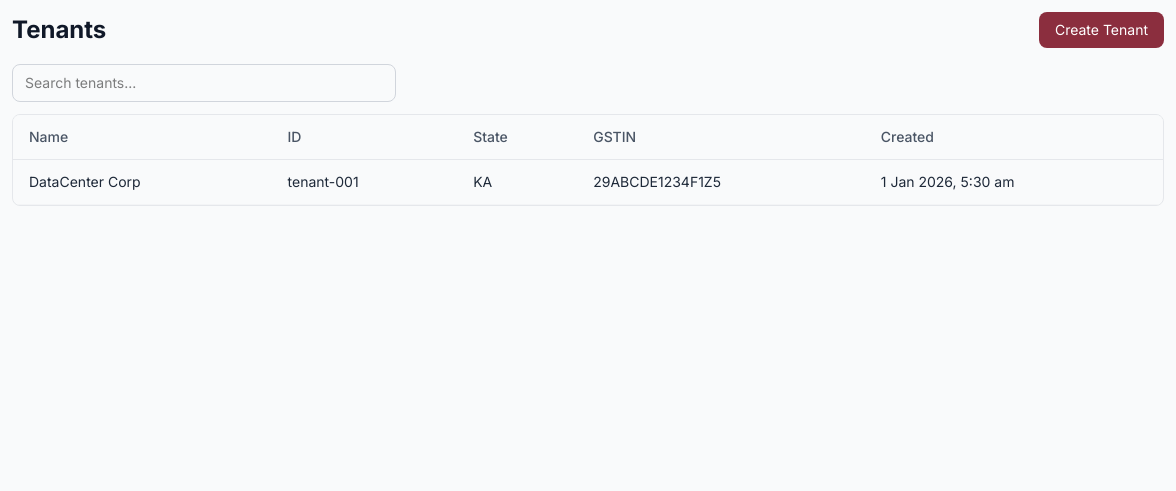
Scenario: PlatformTenants page › shows edit form when a tenant row is clicked
Click the text "DataCenter Corp" at (142, 182), box [13,160,272,204]
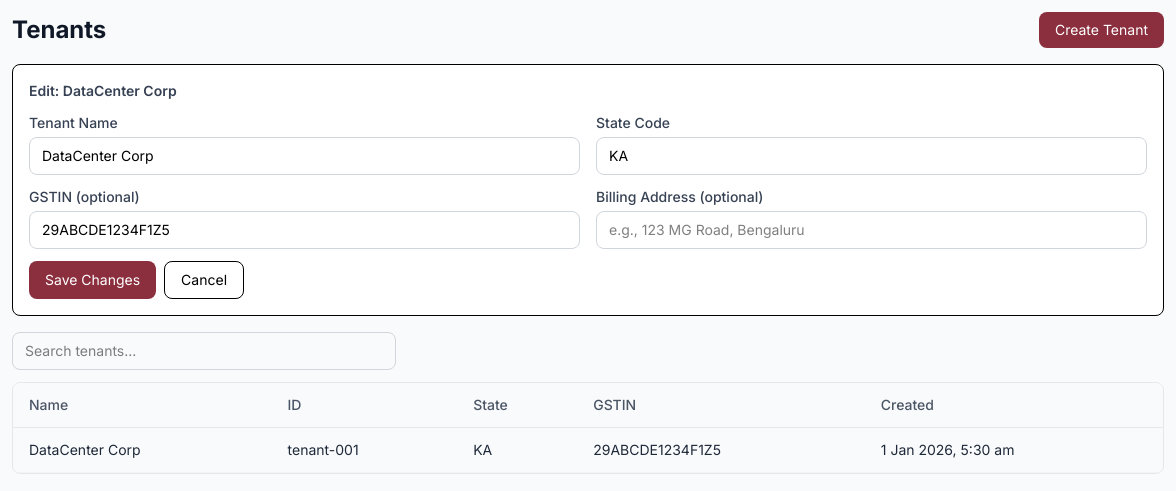
Now the heading "Edit: DataCenter Corp" is shown, box [29,82,177,99]
Now the button "Save Changes" is shown, box [29,261,156,299]
